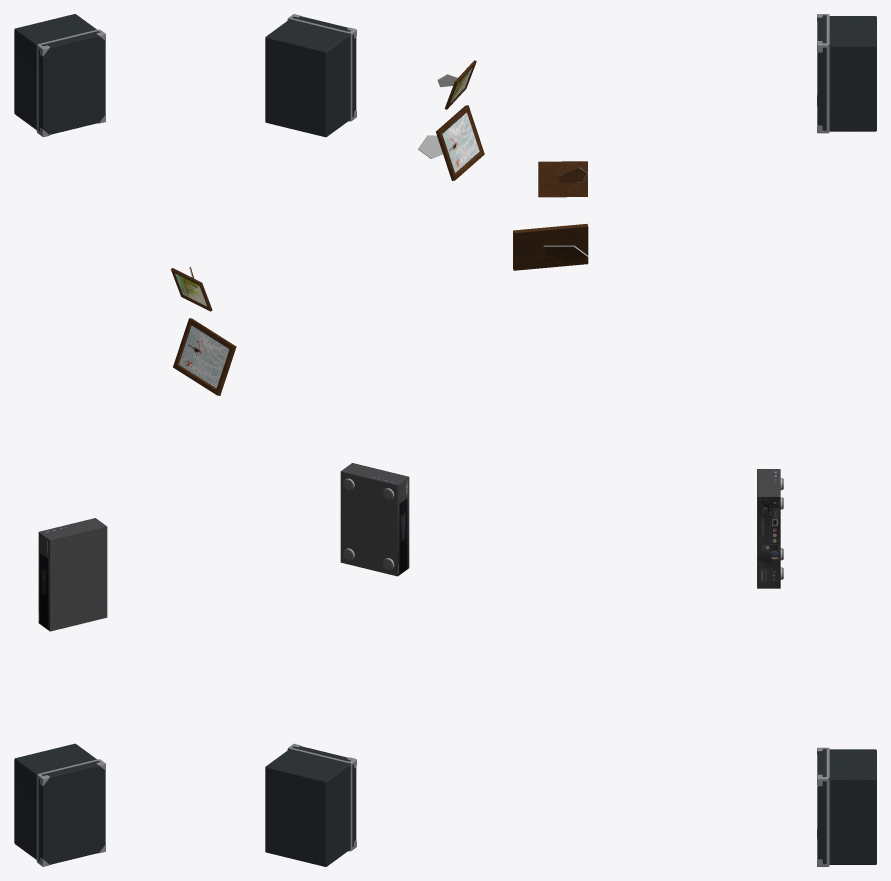
The model's file is body_6.obj.
3 views of the same model, side by side, from view 1: azimuth 30°, elevation 25°; view 2: azimuth 150°, elevation 25°; view 3: azimuth 270°, elevation 25° (orthographic).
Parts seen in each view (by area): view 1: polySurface83_1008.006; view 2: polySurface83_1008.006; view 3: polySurface83_1008.006.
Boxes of the visible parts, box(x1,y1,x2,y2) form: polySurface83_1008.006: box(14, 14, 236, 866); polySurface83_1008.006: box(265, 14, 484, 866); polySurface83_1008.006: box(513, 14, 876, 866).
Bounding box in the file's own units: 3.87 × 35.11 × 14.08.
1 material, 1 textured.
